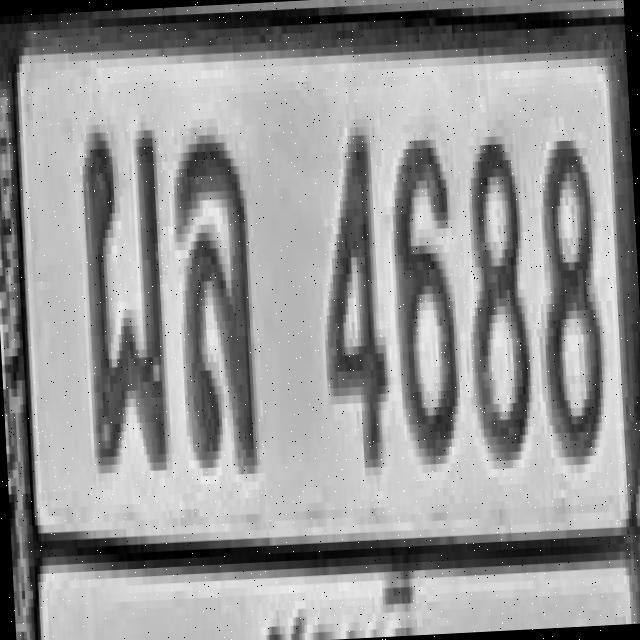37PhorPhueng: (78, 121, 174, 474)
4: (316, 122, 390, 465)
45LorLing: (171, 125, 260, 469)
6: (388, 126, 462, 462)
8: (460, 127, 535, 462), (534, 132, 608, 458)
